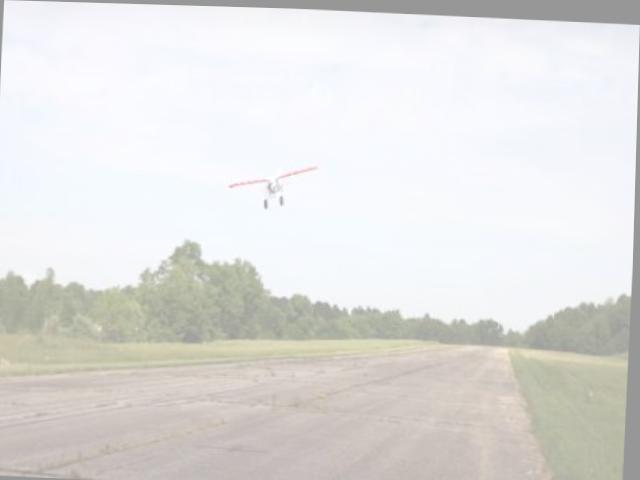uav: (227, 152, 325, 215)
